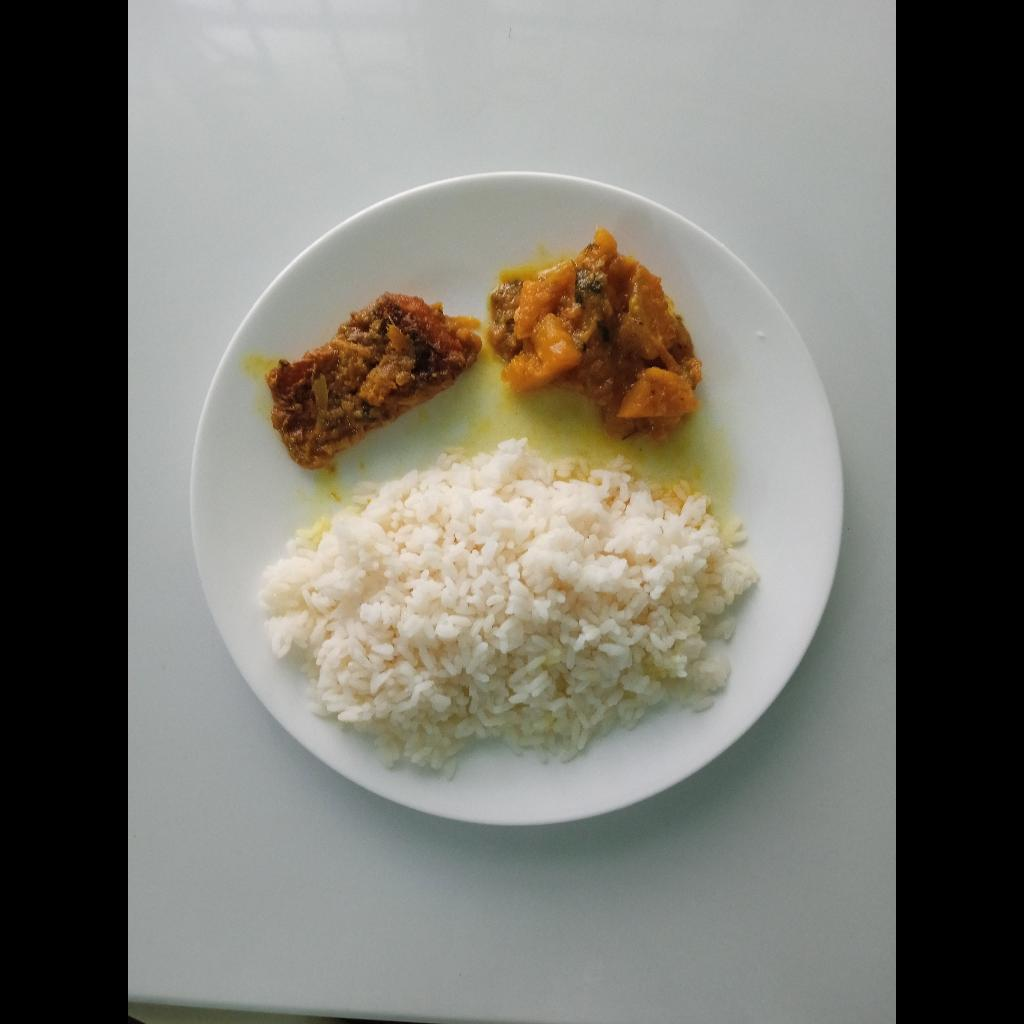fish: (261, 295, 483, 471)
kumra-vaji: (492, 241, 695, 437)
rice: (255, 444, 748, 780)
